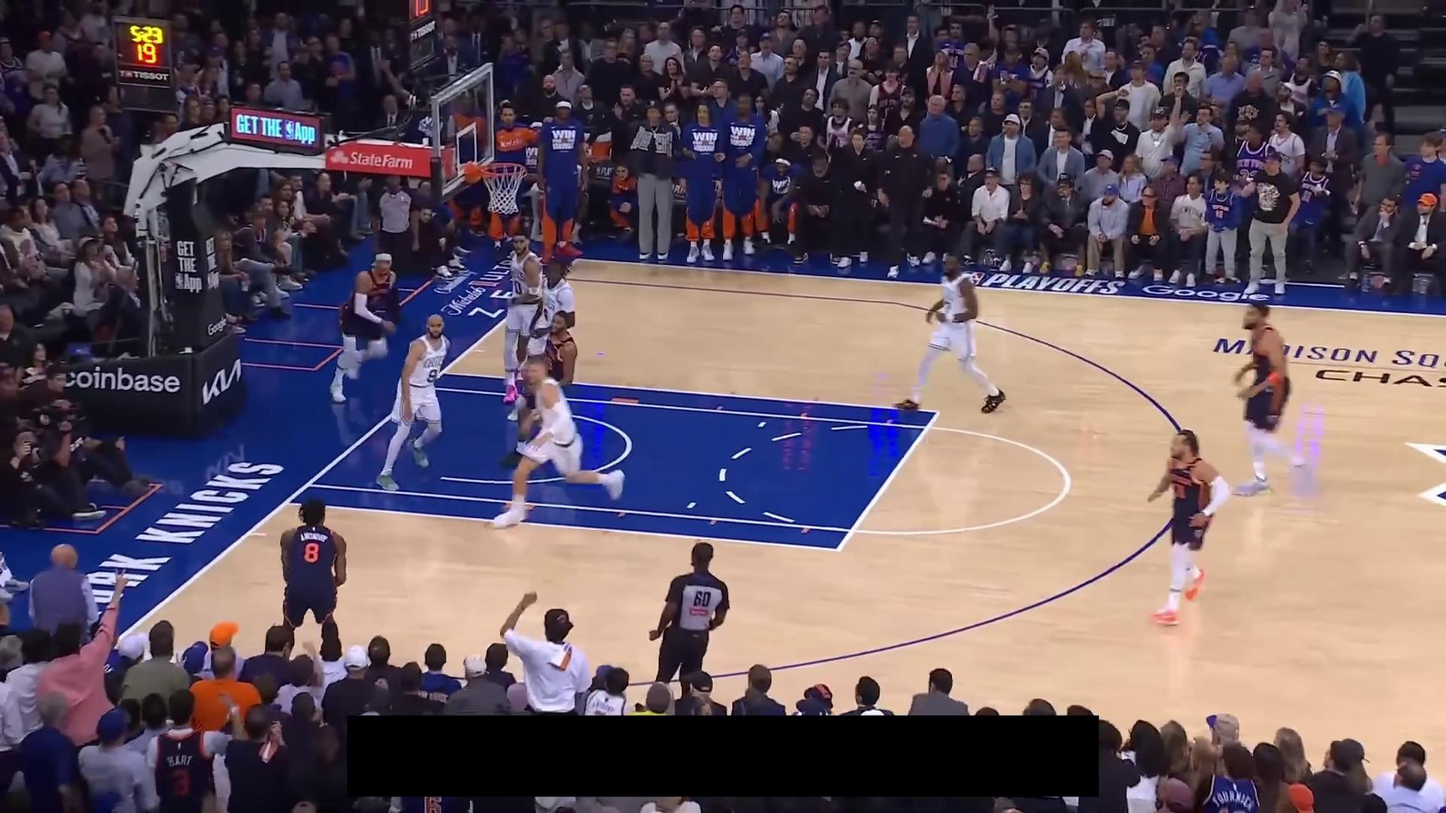number: (300, 541, 320, 564), (427, 368, 438, 385), (513, 278, 523, 296)
player: (490, 357, 625, 531), (888, 248, 1007, 415), (1144, 426, 1232, 627), (1226, 297, 1313, 498), (374, 313, 453, 492), (502, 307, 581, 471), (506, 256, 579, 423), (276, 496, 349, 654), (328, 248, 400, 403), (495, 232, 544, 405)
referee: (640, 540, 735, 695), (369, 172, 421, 269)
rim: (481, 160, 529, 178)
